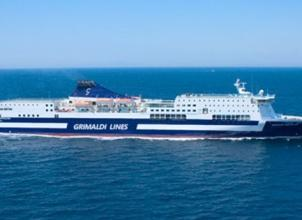youlun: (2, 79, 302, 135)
